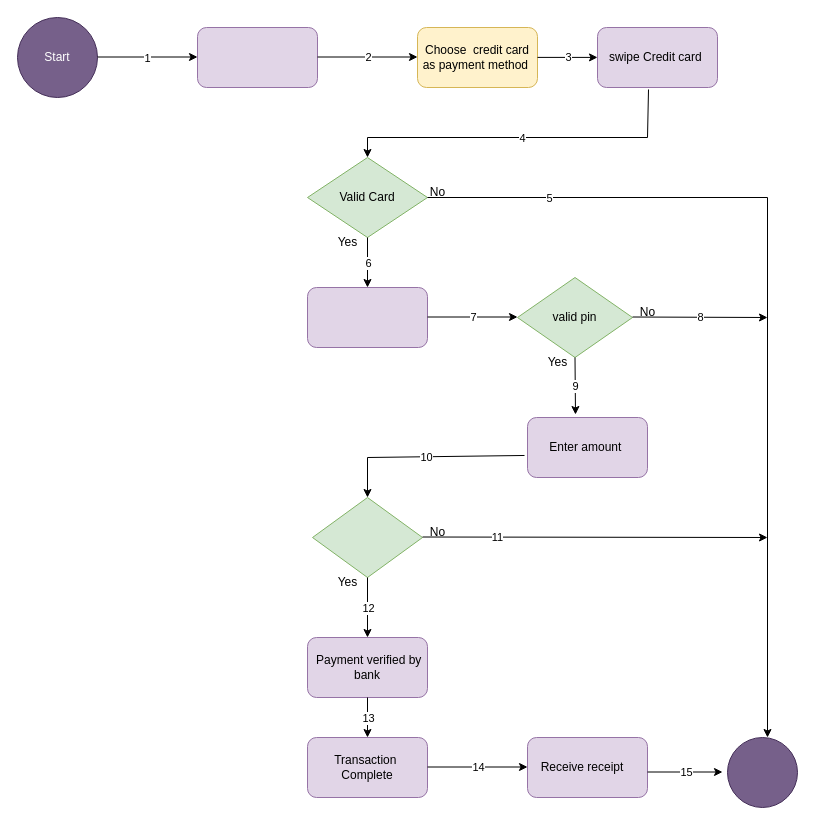
The diagram is 815 pixels wide and 825 high, and some of its shapes have lost their labels. Here are the shapes that lost their labels. From the top down, the centre of each, then its label:
(257,57): Place order
(367,317): Enter pin
(367,537): Funds available
(762,772): End
